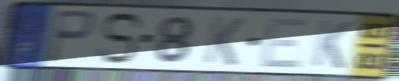8: (155, 15, 195, 65)
E: (258, 17, 311, 70)
K: (201, 15, 247, 68), (309, 18, 354, 71)
P: (45, 8, 98, 66)
S: (95, 11, 145, 66)
